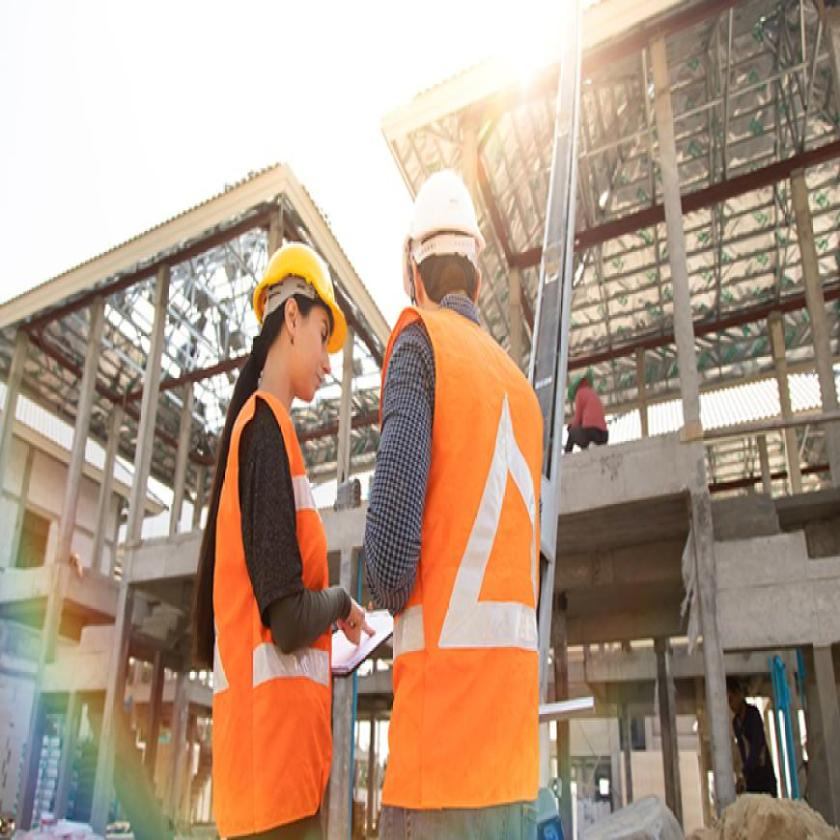Con_casco: (253, 238, 354, 439), (394, 164, 487, 328)
